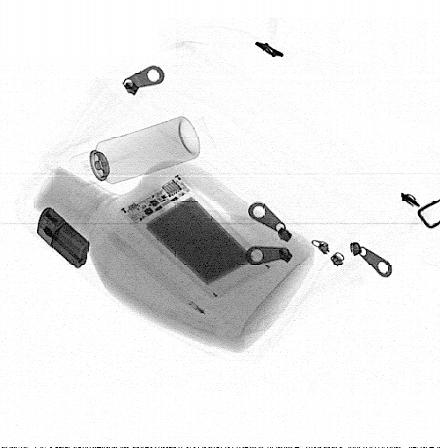Lighter: (37, 206, 89, 269)
Powerbank: (119, 173, 270, 300)
Sprayer: (72, 116, 200, 186)
